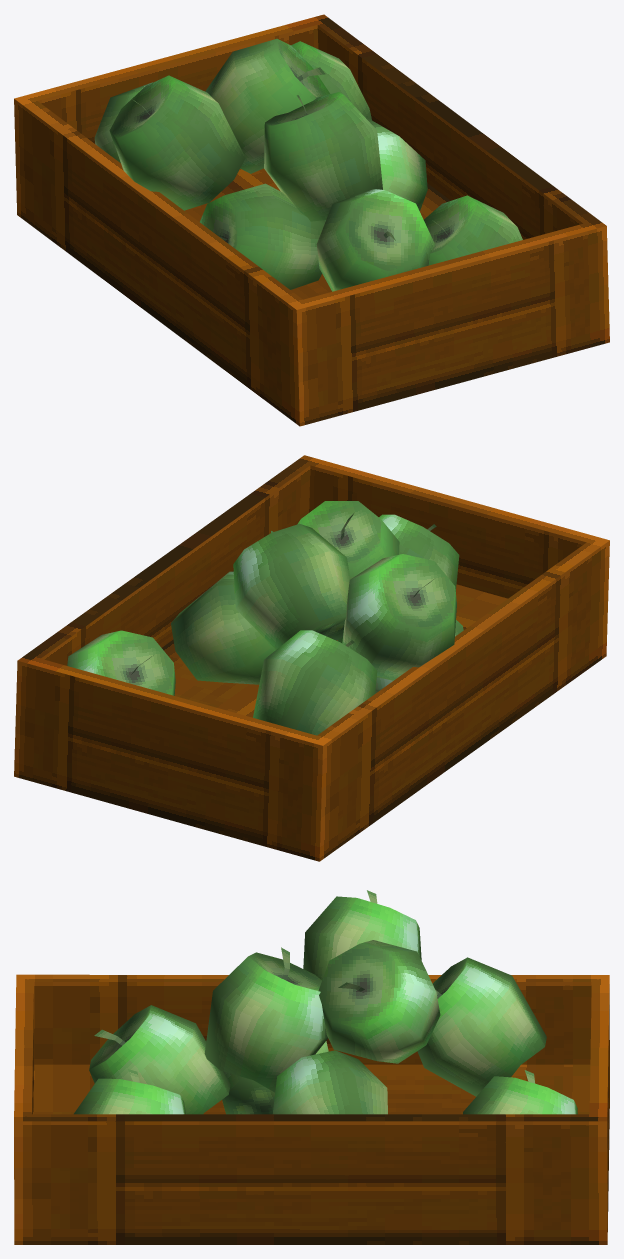
The model's file is INST_HTOWN_BOXOFAPPLES.fbx.
3 renders of one model, top to bottom at view 1: azimuth 30°, elevation 25°; view 2: azimuth 150°, elevation 25°; view 3: azimuth 270°, elevation 25°, orthographic. The views are drawn at different scales.
Parts seen in each view (by area): view 1: INST_HTOWN_BOXOFAPPLES; view 2: INST_HTOWN_BOXOFAPPLES; view 3: INST_HTOWN_BOXOFAPPLES.
Part boxes in pixels (box(x1,y1,x2,y2)): INST_HTOWN_BOXOFAPPLES: box(14, 14, 609, 426); INST_HTOWN_BOXOFAPPLES: box(14, 455, 609, 861); INST_HTOWN_BOXOFAPPLES: box(14, 890, 609, 1244).
Bounding box in the file's own units: 4396 × 2824 × 6705.
Materials: 2 (2 with a texture image).
